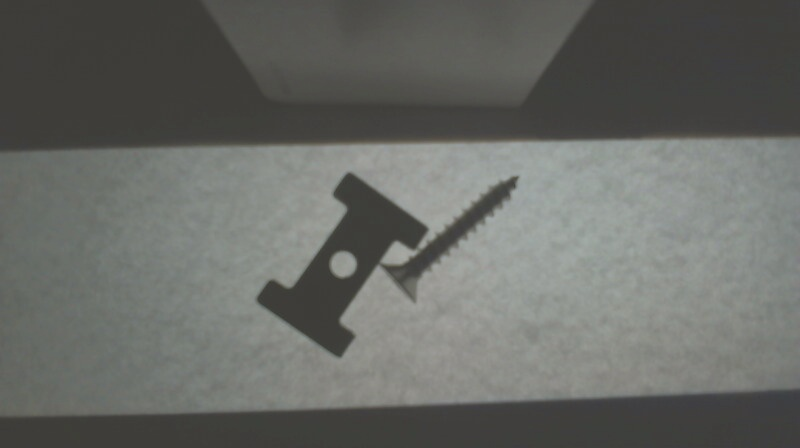O002: (255, 176, 424, 359)
S001: (377, 171, 523, 308)
